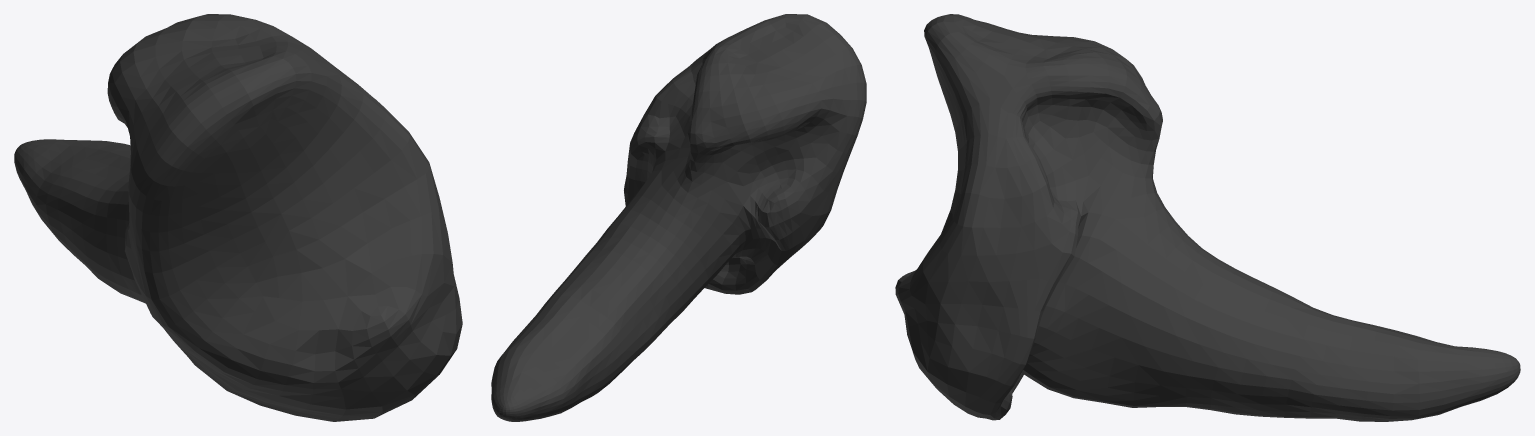
The model's file is Distal_phalange_4.glb.
The picture shows the model from 3 angles, left to right: view 1: azimuth 30°, elevation 25°; view 2: azimuth 150°, elevation 25°; view 3: azimuth 270°, elevation 25°; orthographic projection. The views are drawn at different scales.
Visible parts, largest first — view 1: Distal_phalange_4; view 2: Distal_phalange_4; view 3: Distal_phalange_4.
Part boxes in pixels (left/top/right/bottom): Distal_phalange_4: left=14, top=14, right=462, bottom=421; Distal_phalange_4: left=491, top=14, right=866, bottom=421; Distal_phalange_4: left=895, top=14, right=1520, bottom=421.
Bounding box in the file's own units: 0.1074 × 0.1313 × 0.2129.
Materials: 1 (1 with a texture image).
